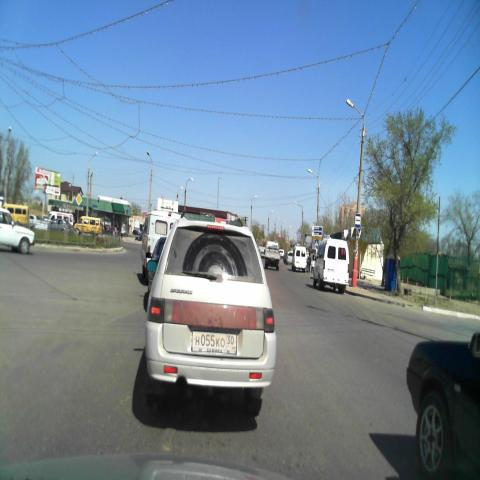2_1: (76, 192, 82, 207)
5_16: (354, 212, 360, 230)
